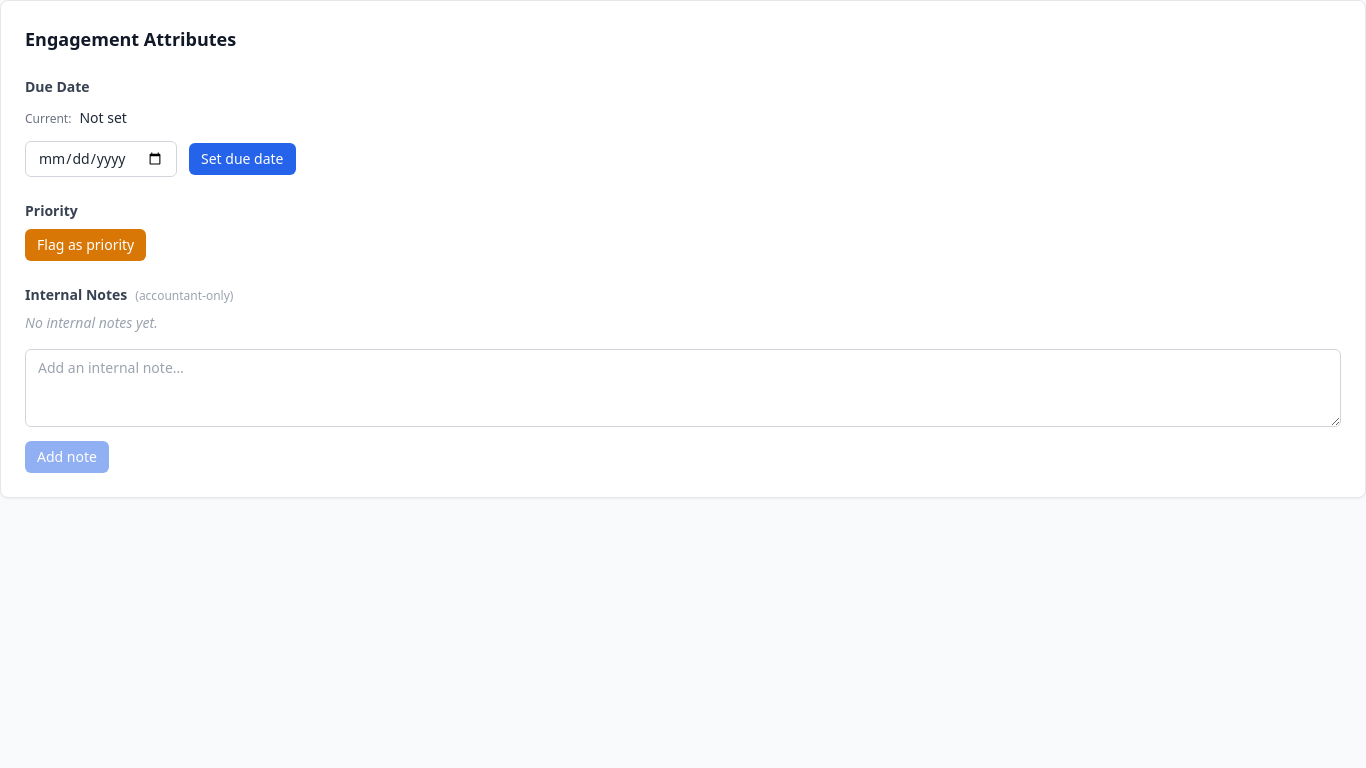
Test: [AC-LIFE-007-01] [AC-LIFE-007-02] setDueDateAction wire-up › [AC-LIFE-007-01] shows success message after setting due date
The image size is (1366, 768).
Step 1. Type "2026-12-31" into the date field with test id "due-date-input" → (101, 159), box [25,141,177,177]
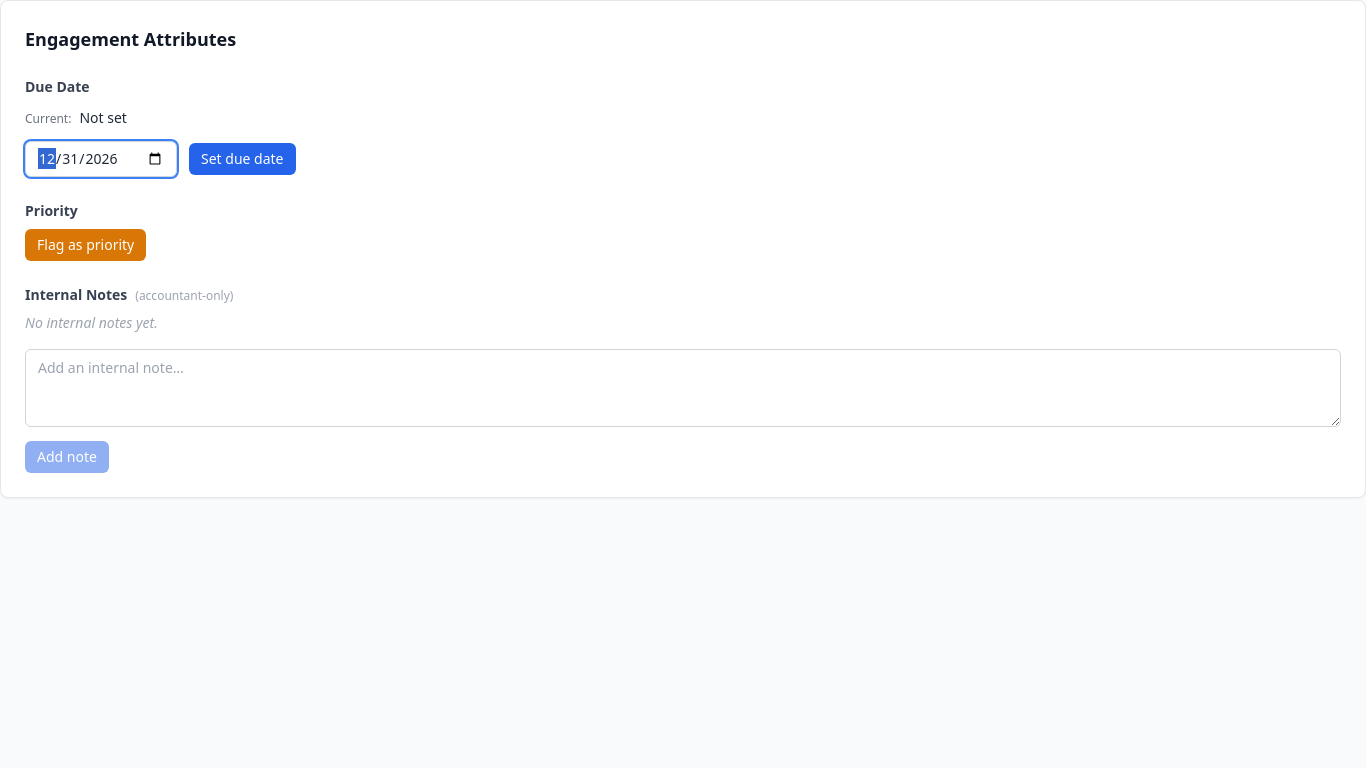
Step 2. Click the button with test id "set-due-date-button" → (242, 159), box [189,143,296,175]
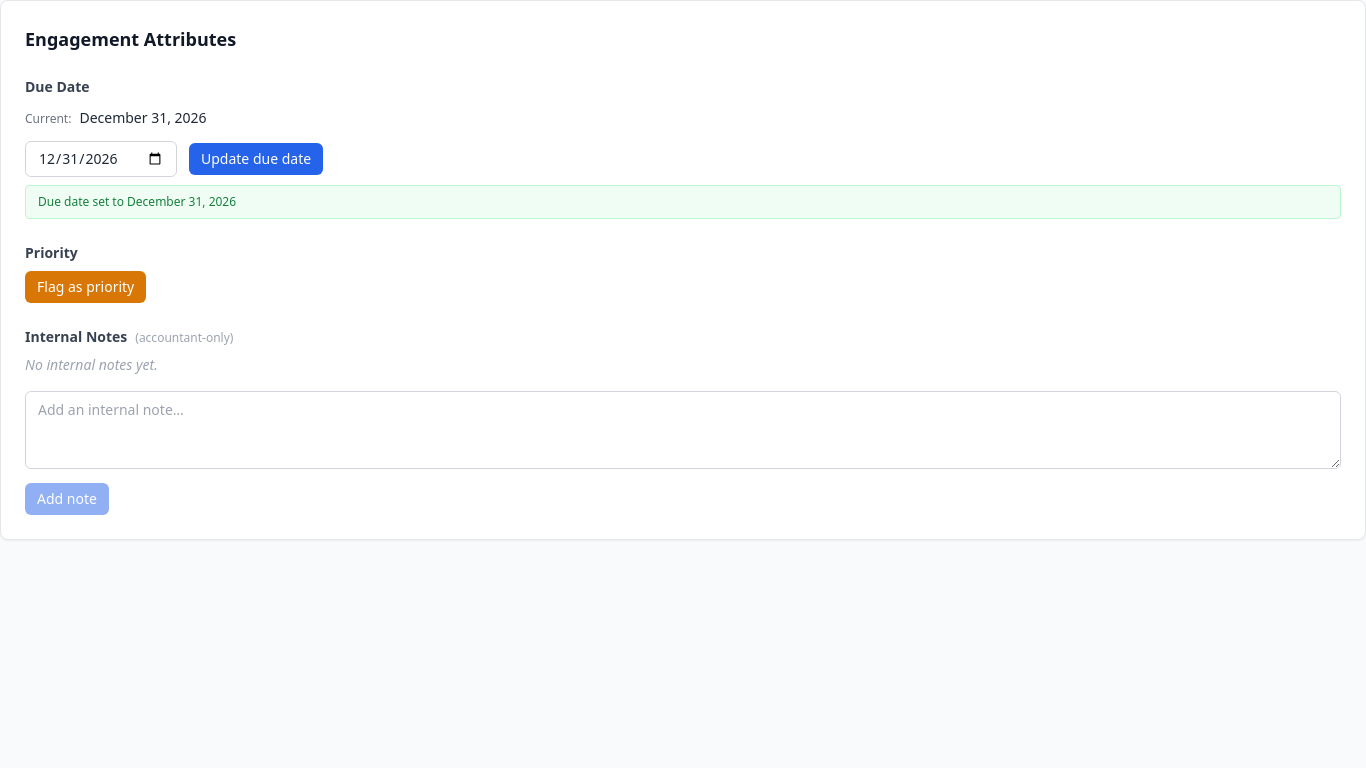
Expected: the message "Due date set to December 31, 2026" is shown, [25,185,1341,219]
